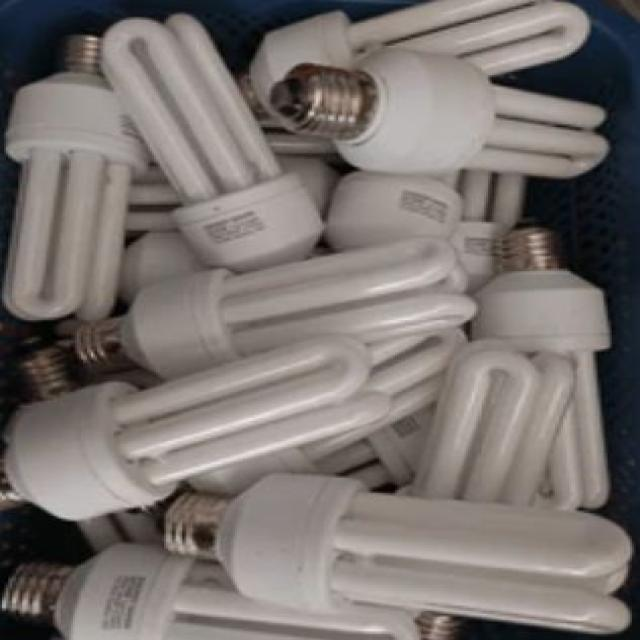electronic: (0, 0, 634, 638), (245, 9, 496, 175)
